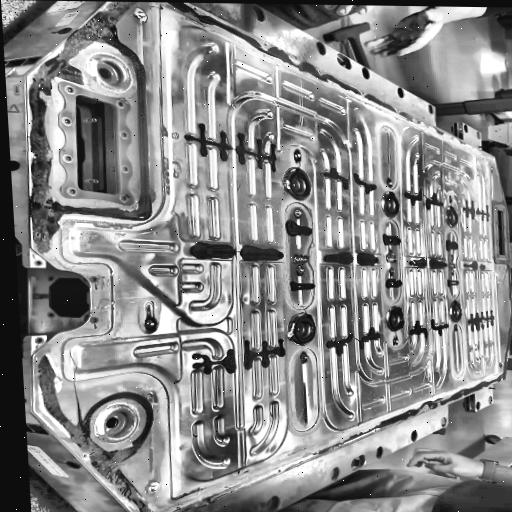b_casing: (25, 2, 511, 512)
